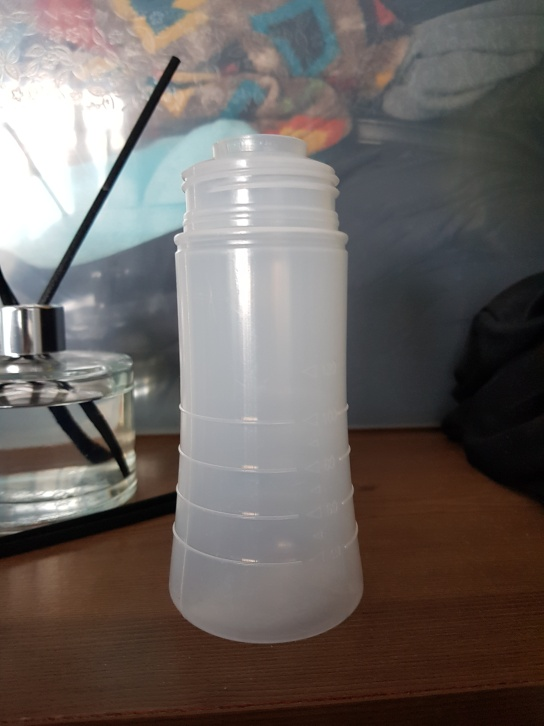Plastic: (163, 132, 370, 652)
